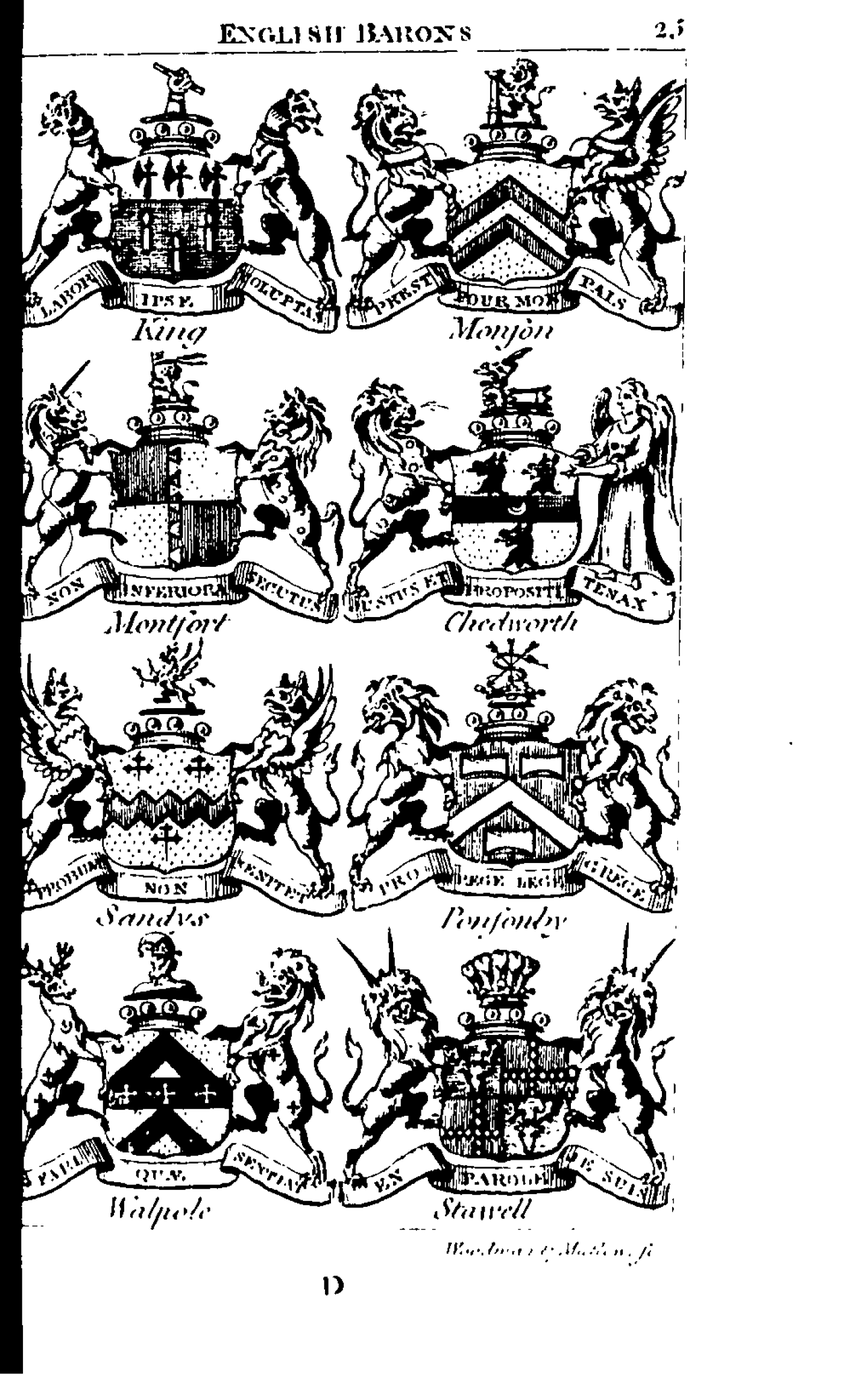coat_of_arms: (345, 636, 694, 940), (17, 922, 339, 1239), (344, 51, 679, 354), (12, 52, 342, 351), (15, 344, 337, 649), (337, 356, 682, 639), (338, 942, 669, 1230), (18, 652, 347, 928)
